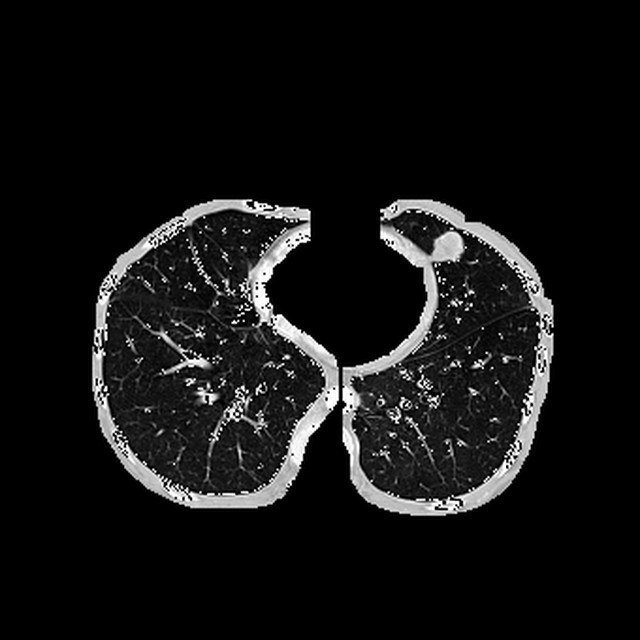PN: (431, 230, 465, 264)
